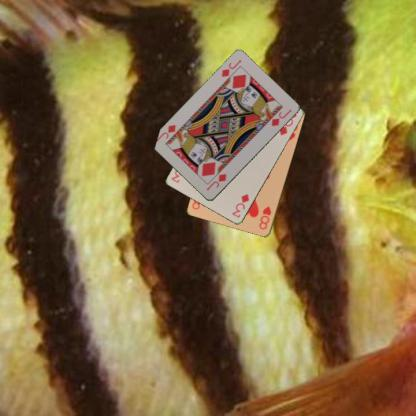3d: (230, 191, 250, 219)
8h: (256, 204, 272, 231)
Jd: (219, 57, 243, 79), (203, 172, 228, 192)
